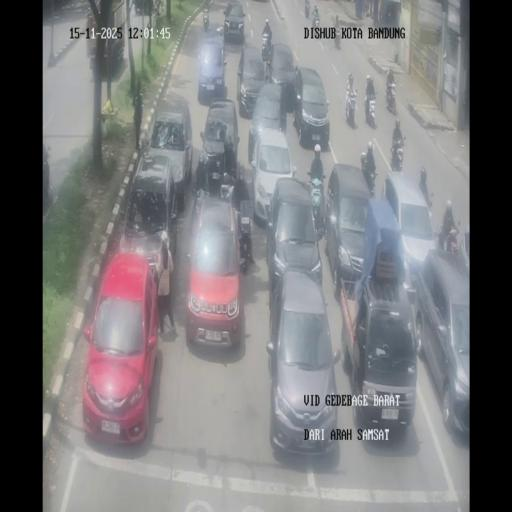3: (86, 1, 126, 74)
car: (81, 252, 160, 443), (266, 270, 339, 458), (342, 264, 418, 438), (414, 248, 468, 438), (185, 192, 245, 349), (382, 172, 438, 286), (325, 163, 373, 291), (145, 98, 194, 209), (250, 126, 296, 227), (199, 98, 240, 194), (294, 66, 331, 149), (197, 32, 228, 104), (267, 43, 300, 109), (237, 45, 266, 116), (223, 1, 246, 44), (459, 229, 470, 281)
truck: (307, 169, 327, 233), (238, 218, 254, 272), (439, 224, 460, 254), (344, 86, 358, 127), (364, 89, 377, 128), (385, 79, 399, 115), (390, 140, 405, 172), (363, 162, 377, 196), (419, 181, 433, 209), (261, 34, 273, 62), (334, 24, 342, 49), (312, 8, 320, 30), (264, 61, 272, 82), (203, 11, 209, 32), (362, 0, 369, 17), (305, 0, 310, 18)
